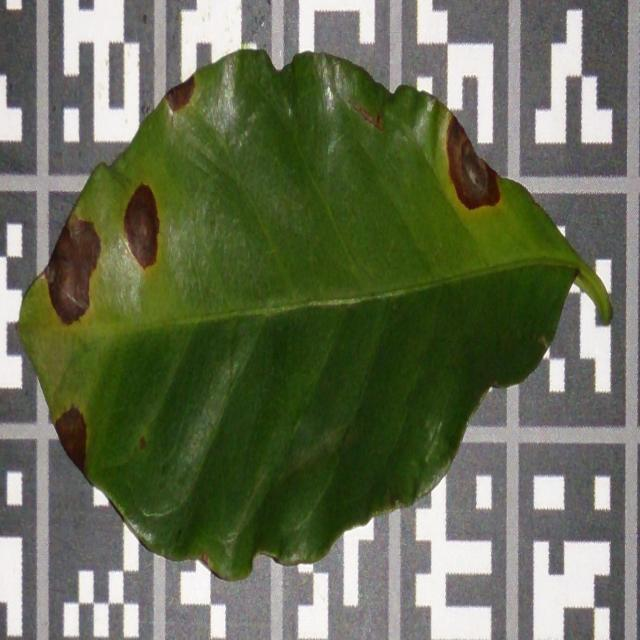Enfermedad-Mancha-de-hierro: (18, 47, 609, 584)
